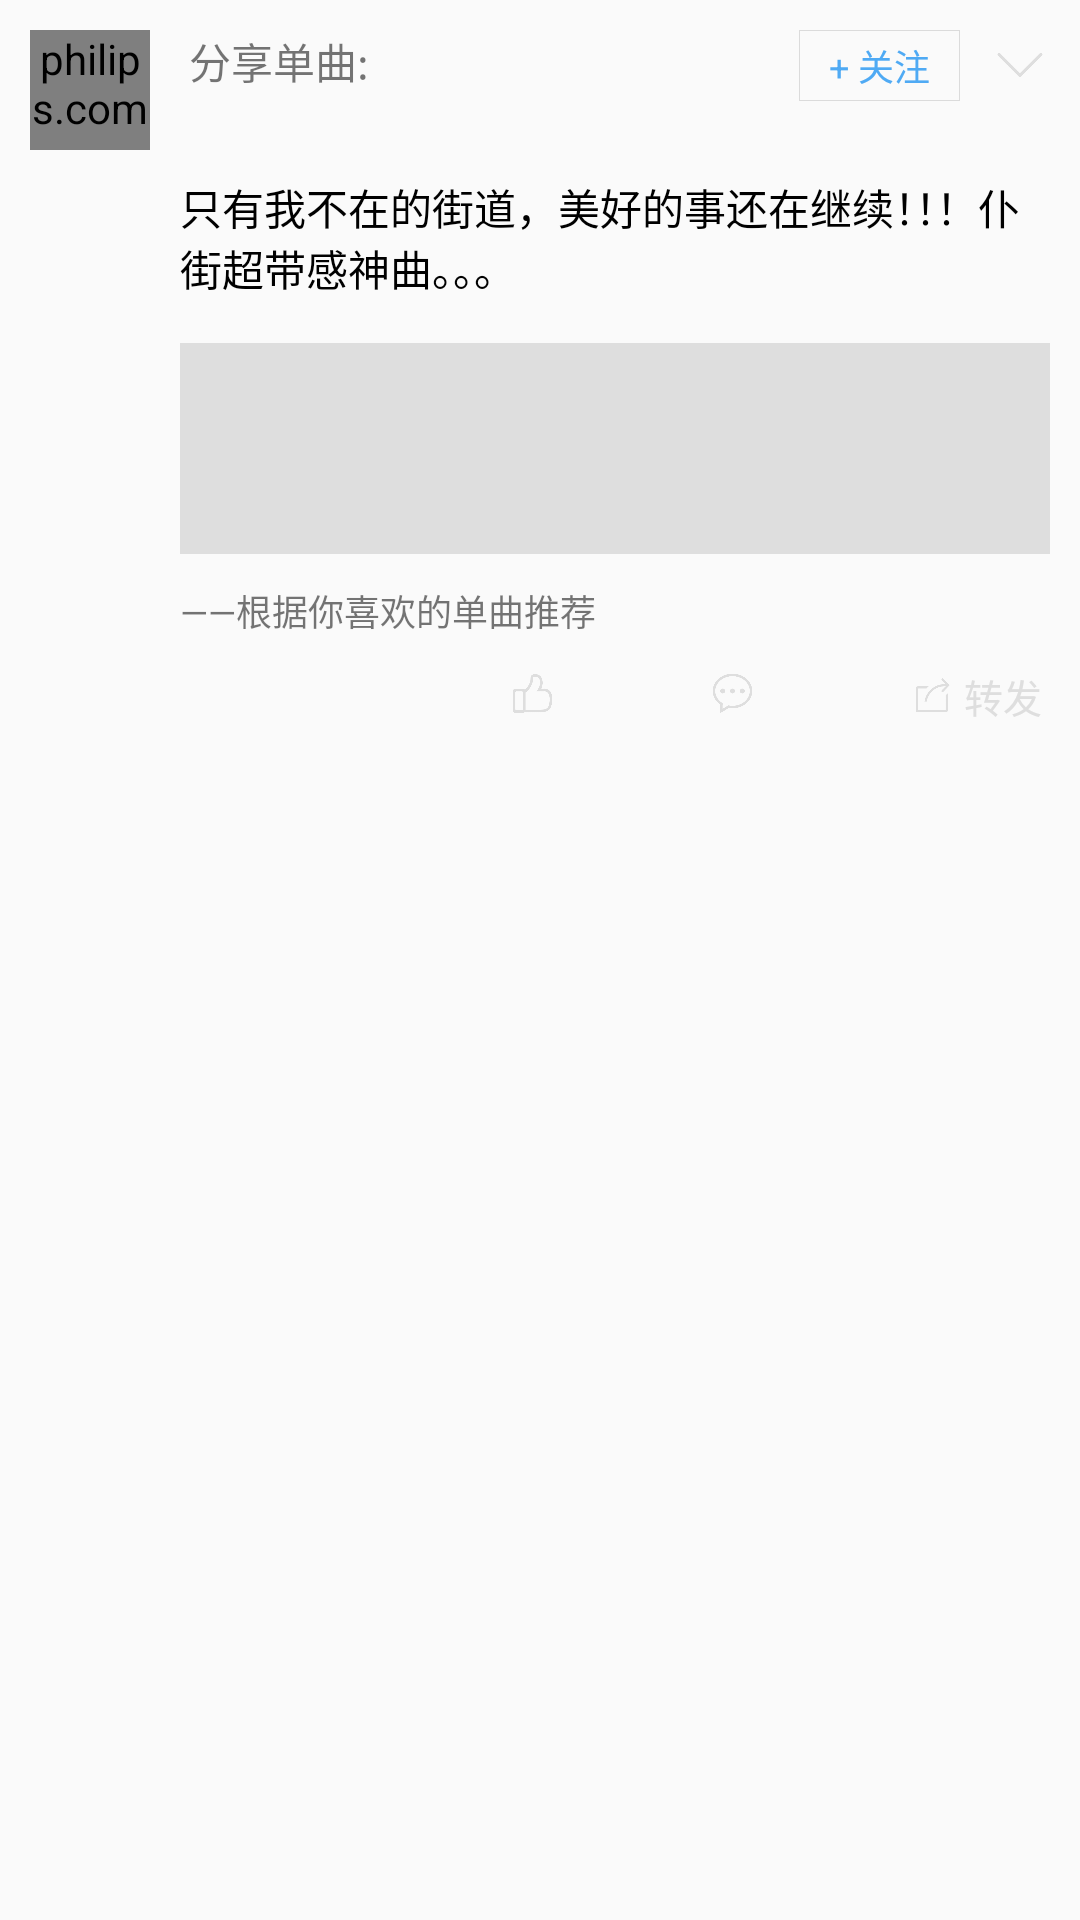

Icon click points for this 1080 x 1920 phone screenshot, format [x,y]:
arrowdown: [1020,65]
comment: [732,693]
praise: [532,693]
